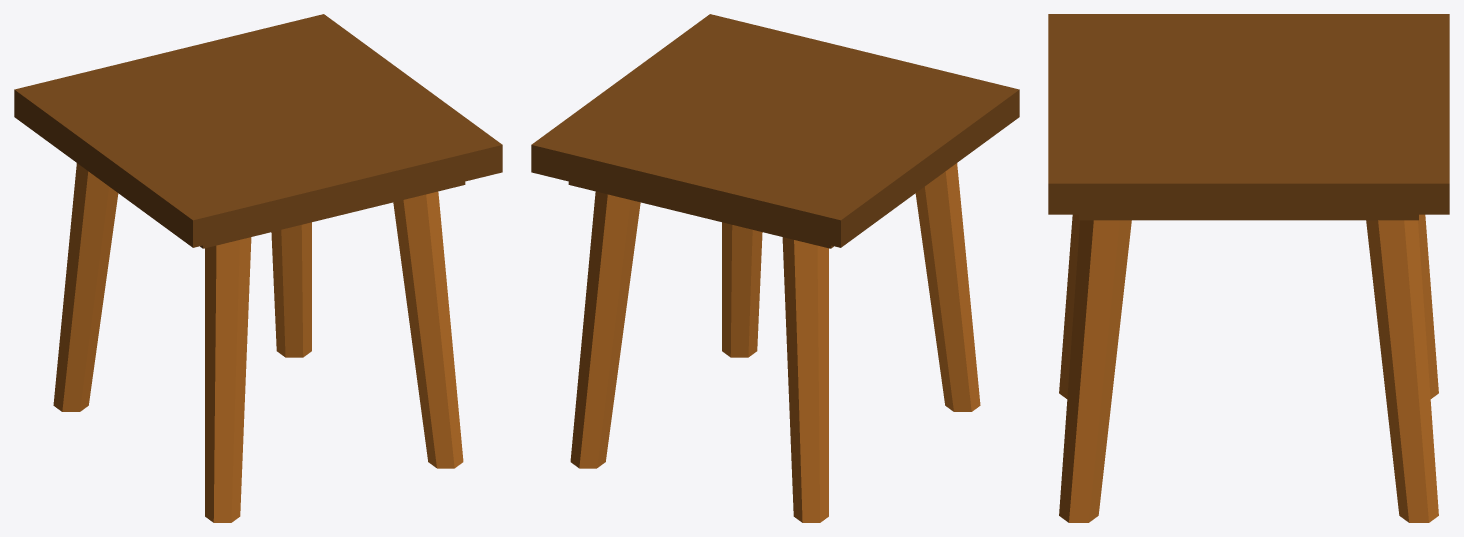
The model's file is Kursi Unyu.fbx.
The picture shows the model from 3 angles, left to right: view 1: azimuth 30°, elevation 25°; view 2: azimuth 150°, elevation 25°; view 3: azimuth 270°, elevation 25°; orthographic projection. The views are drawn at different scales.
Parts seen in each view (by area): view 1: Plane.050; view 2: Plane.050; view 3: Plane.050.
Part boxes in pixels (<box>): Plane.050: <box>14,14,502,522</box>; Plane.050: <box>531,14,1019,522</box>; Plane.050: <box>1048,14,1449,522</box>.
Size of the model in its own units: 435 by 425 by 435.
